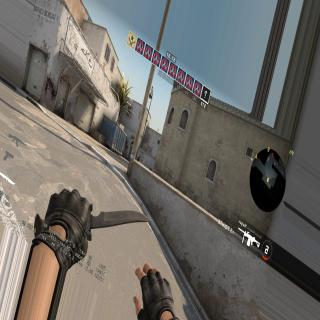CT-Body: (137, 156, 140, 161)
CT-Head: (138, 156, 140, 158)
